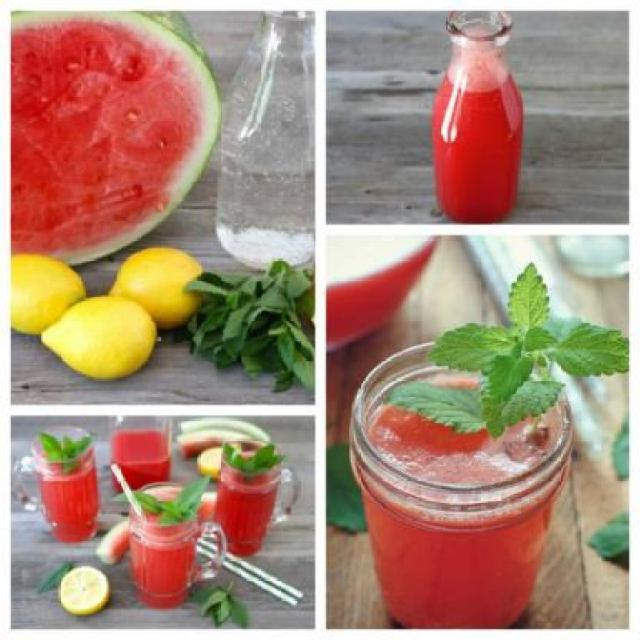Watermelon: (5, 7, 218, 267)
